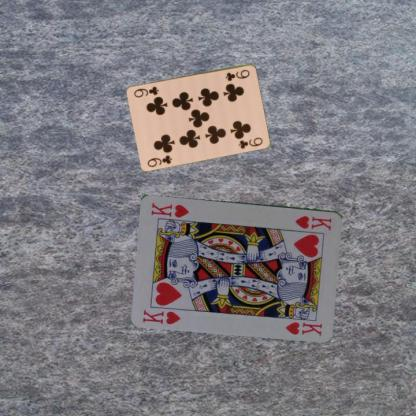9c: (223, 67, 251, 82), (145, 153, 173, 168)
Kh: (140, 306, 182, 326), (292, 212, 333, 232)
